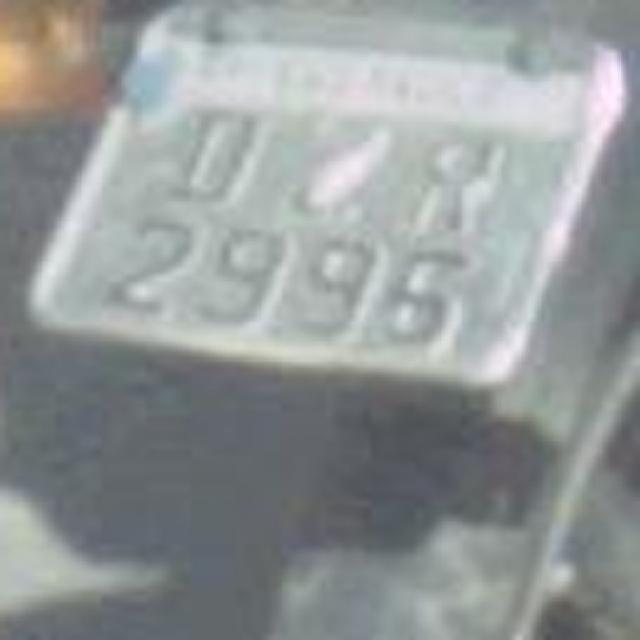2: (80, 192, 205, 320)
6: (364, 229, 484, 356)
9: (264, 211, 388, 344), (180, 196, 295, 336)
B: (400, 112, 500, 240)
Z: (272, 91, 388, 224)
